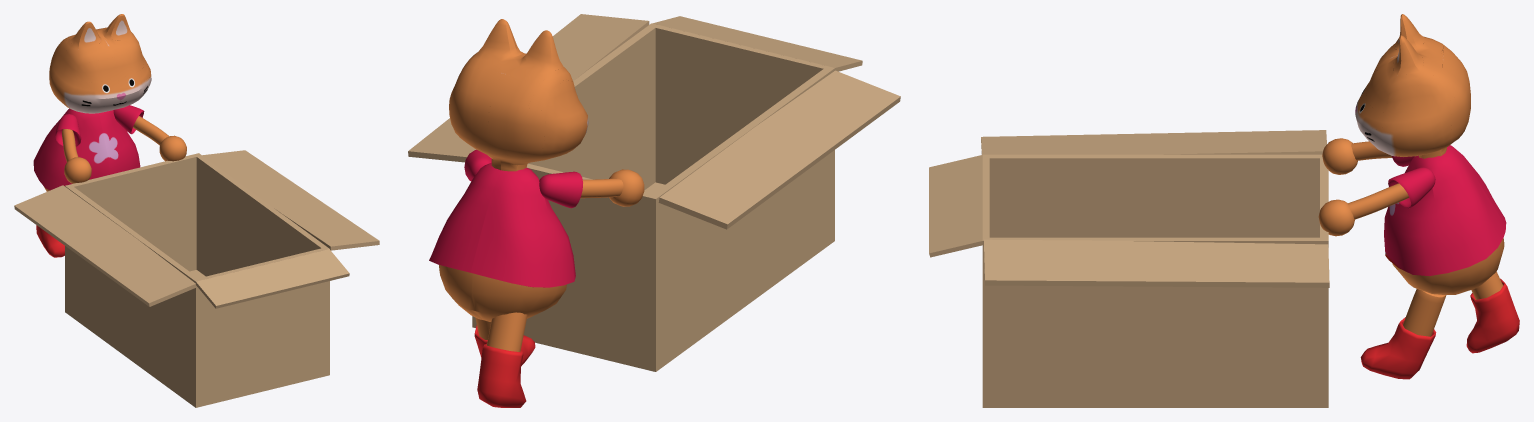
The model's file is Cat2_v1.glb.
The picture shows the model from 3 angles, left to right: view 1: azimuth 30°, elevation 25°; view 2: azimuth 150°, elevation 25°; view 3: azimuth 270°, elevation 25°; orthographic projection. The views are drawn at different scales.
Parts seen in each view (by area): view 1: caja, Cube.003, head, Cube.001, Body, Cube.002, arms, shirt, Leg_R; view 2: caja, Body, Cube.003, head, Cube.001, Leg_R, Cube.002, shirt, arms, Leg_L; view 3: caja, Cube.001, Body, head, Cube.003, Cube.002, Leg_L, arms, Leg_R, shirt.
Part boxes in pixels (box(x1,y1,x2,y2)): caja: box(65, 153, 329, 407); Cube.003: box(14, 185, 196, 306); head: box(49, 14, 151, 113); Cube.001: box(202, 150, 379, 250); Body: box(33, 108, 140, 191); Cube.002: box(196, 249, 349, 308); arms: box(62, 116, 186, 183); shirt: box(55, 105, 144, 146); Leg_R: box(36, 225, 64, 257); caja: box(472, 23, 834, 371); Body: box(429, 162, 575, 321); Cube.003: box(658, 70, 900, 229); head: box(449, 19, 588, 171); Cube.001: box(408, 14, 649, 162); Leg_R: box(477, 312, 527, 407); Cube.002: box(653, 16, 862, 71); shirt: box(464, 149, 582, 208); arms: box(580, 169, 644, 206); Leg_L: box(474, 317, 535, 366); caja: box(982, 154, 1328, 407); Cube.001: box(983, 239, 1329, 287); Body: box(1384, 145, 1506, 294); head: box(1355, 14, 1470, 158); Cube.003: box(981, 130, 1326, 154); Cube.002: box(929, 155, 982, 257); Leg_L: box(1360, 289, 1446, 379); arms: box(1318, 138, 1409, 236); Leg_R: box(1466, 271, 1519, 353); shirt: box(1388, 156, 1435, 208).
Bounding box in the file's own units: 1.36 × 1.41 × 2.22.
6 materials, 2 textured.
